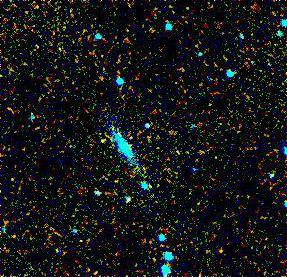star: (91, 125, 121, 155)
